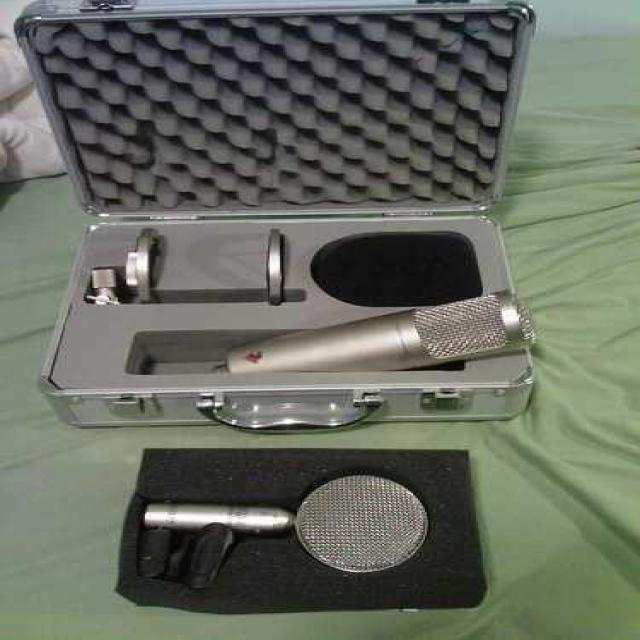microphone: (142, 471, 458, 574), (220, 291, 530, 375)
